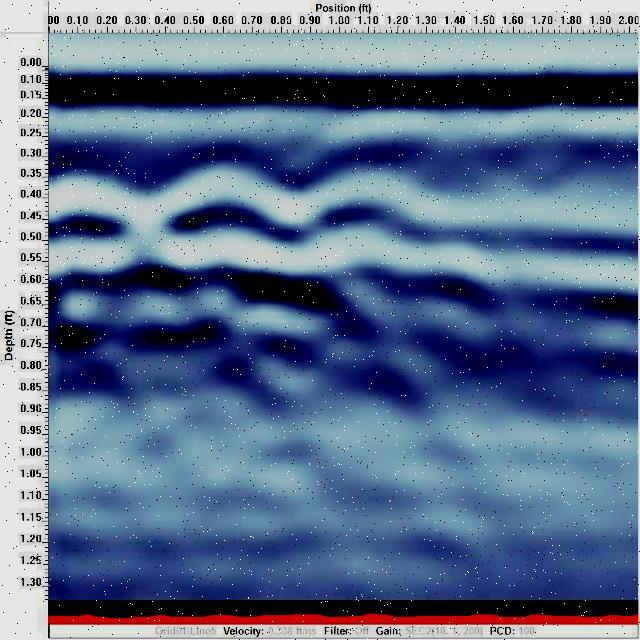hyperbola: (151, 142, 310, 304), (312, 153, 450, 300), (48, 158, 148, 298)
